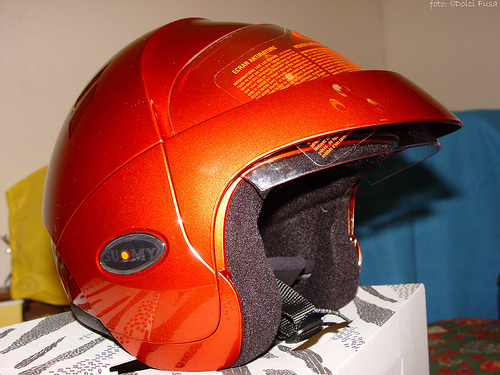helmet: (44, 12, 464, 357)
